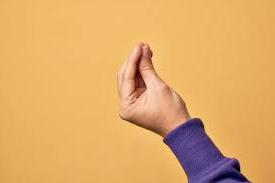Italian-Gesture: (116, 40, 191, 132)
